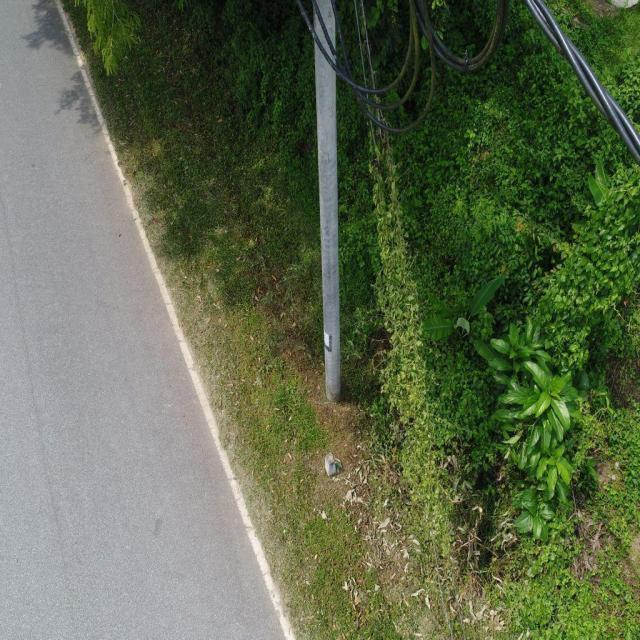critical vegetation: (358, 82, 473, 606)
